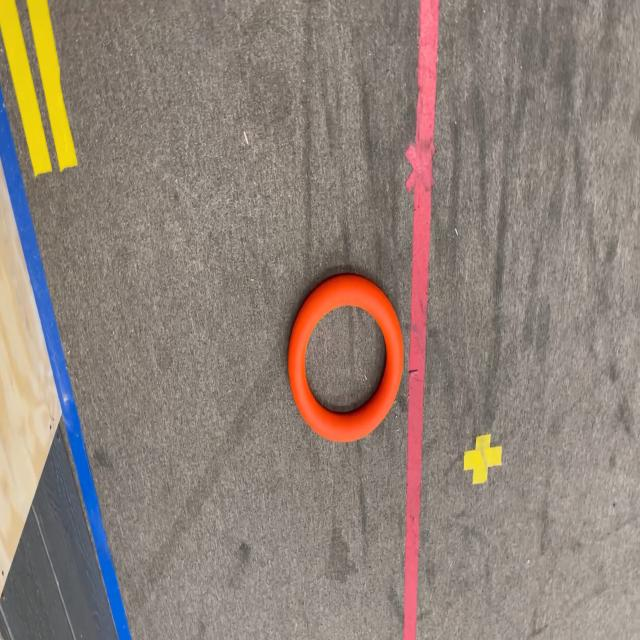note: (287, 274, 403, 443)
